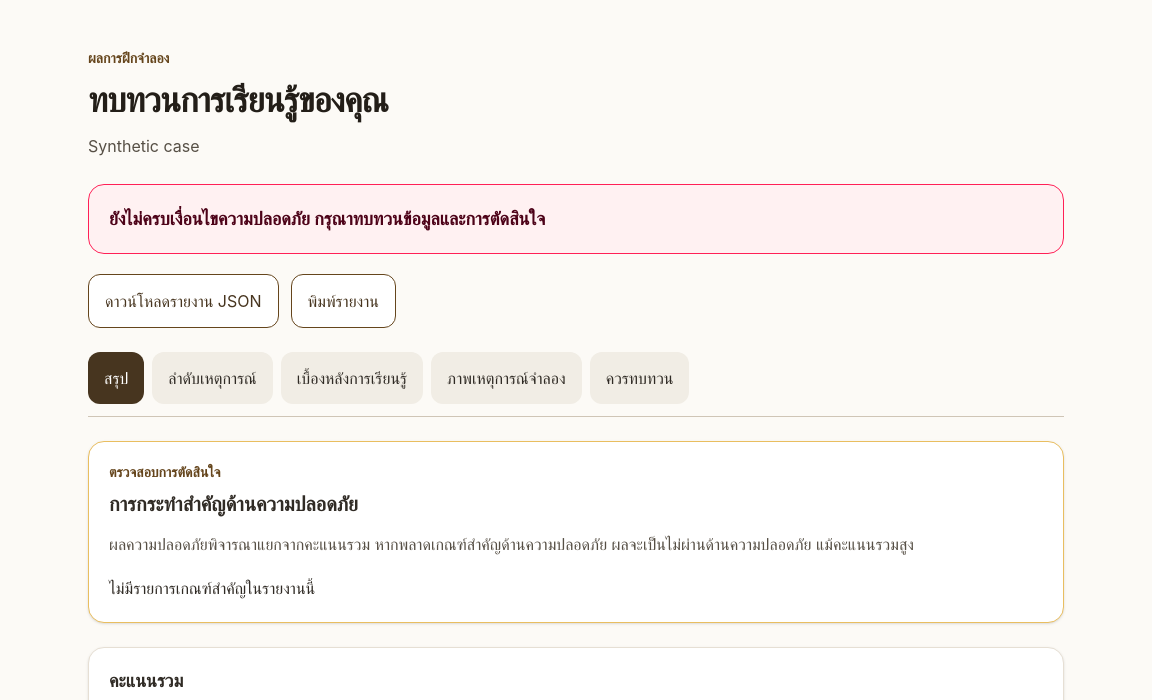
Test: T-054 Glass Box and Consequence Replay › shows the completed conversation beside unlocked and never-asked facts, with risk and events
This screenshot has width=1152, height=700.
Click the tab "เบื้องหลังการเรียนรู้".
click(352, 378)  # box [281,352,423,404]
(page scrolled)
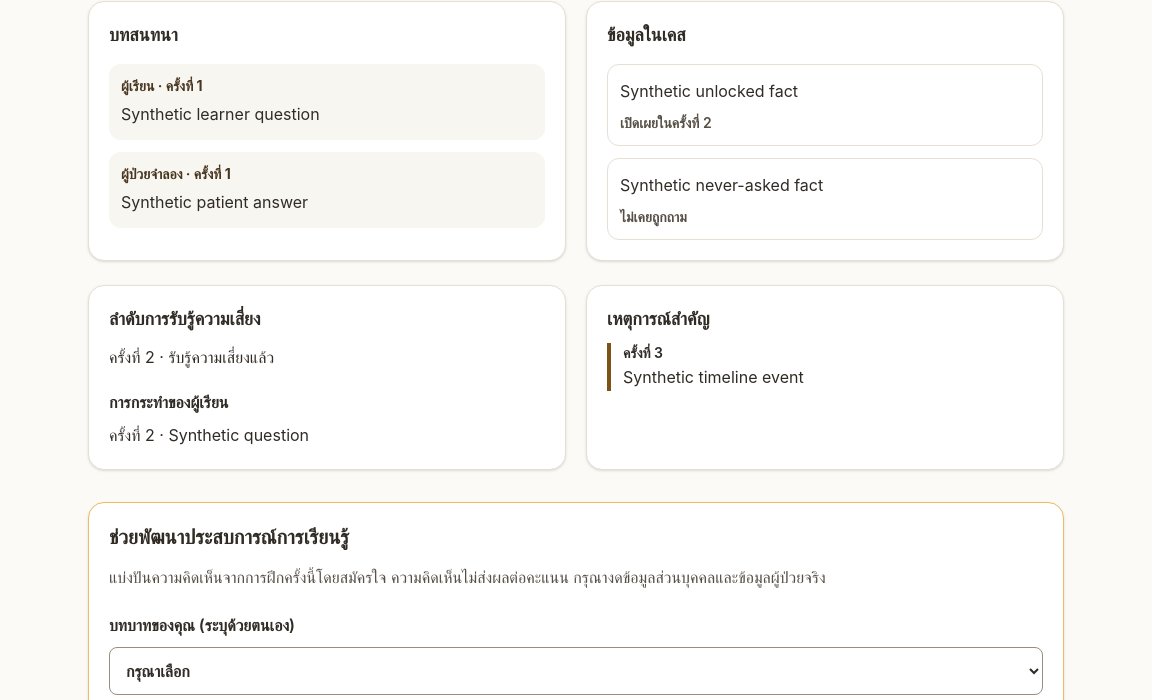
Expected: the text "Synthetic learner question" is shown, [121,104,320,124]
Expected: the text "Synthetic patient answer" is shown, [121,192,308,212]
Expected: the text "Synthetic unlocked fact" is shown, [620,81,798,101]
